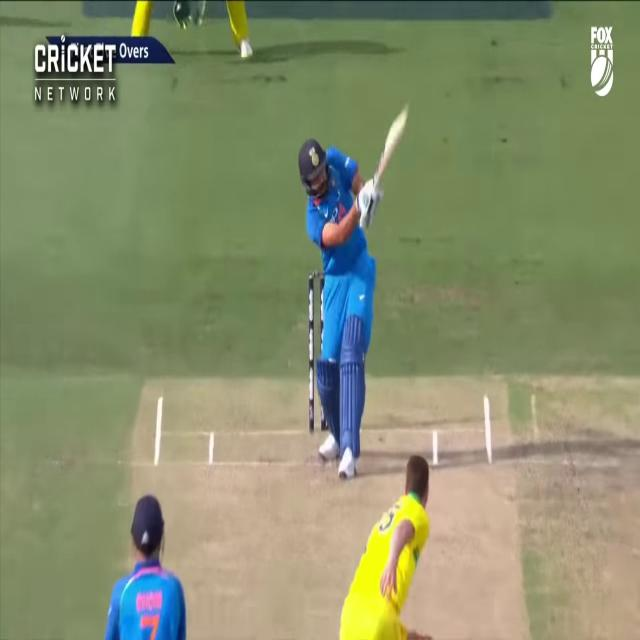stump: (310, 272, 326, 423)
